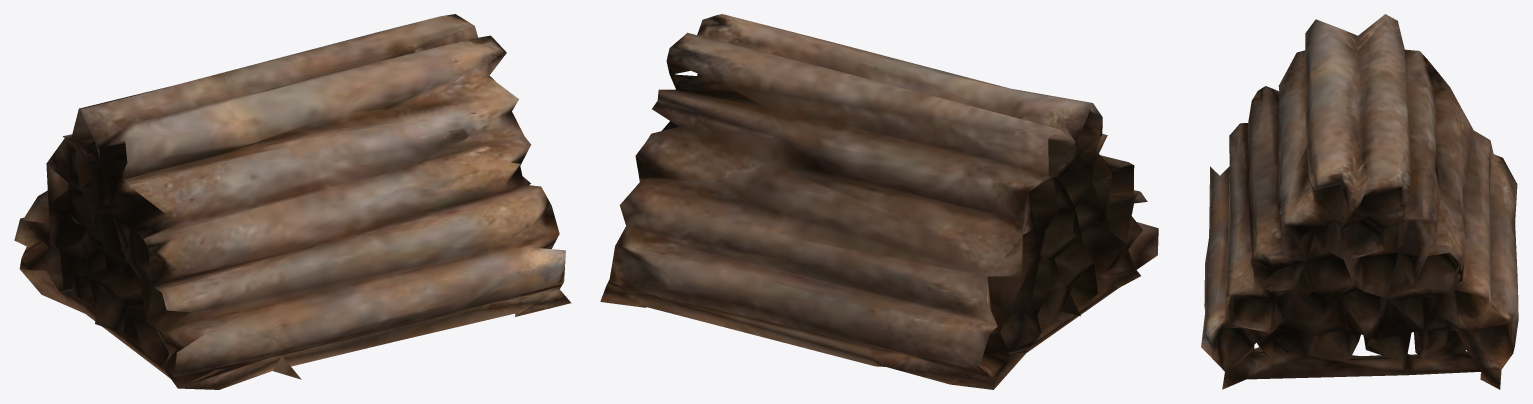
Rendered from e_pipes.glb.
3 views of the same model, side by side, from view 1: azimuth 30°, elevation 25°; view 2: azimuth 150°, elevation 25°; view 3: azimuth 270°, elevation 25° (orthographic). The views are drawn at different scales.
Visible parts, largest first — view 1: tripo_node_636562ef-35c6-4838-80ef-691c9d095f20; view 2: tripo_node_636562ef-35c6-4838-80ef-691c9d095f20; view 3: tripo_node_636562ef-35c6-4838-80ef-691c9d095f20.
Boxes of the visible parts, <box> form: tripo_node_636562ef-35c6-4838-80ef-691c9d095f20: <box>14,14,571,389</box>; tripo_node_636562ef-35c6-4838-80ef-691c9d095f20: <box>600,14,1158,389</box>; tripo_node_636562ef-35c6-4838-80ef-691c9d095f20: <box>1201,14,1518,389</box>.
Bounding box in the file's own units: 1 × 0.5472 × 0.7935.
1 material, 1 textured.
